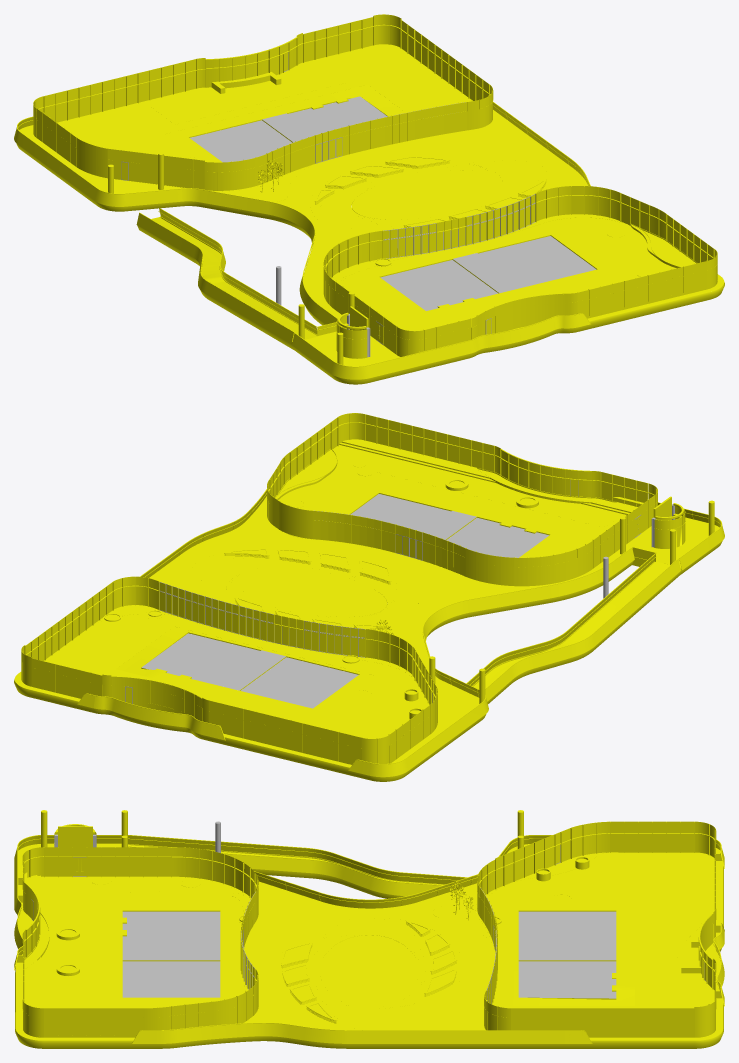
File: sm_hana_building_15f_out.glb
The picture shows the model from 3 angles, top to bottom: view 1: azimuth 30°, elevation 25°; view 2: azimuth 150°, elevation 25°; view 3: azimuth 270°, elevation 25°; orthographic projection. The views are drawn at different scales.
Parts seen in each view (by area): view 1: sm_hana_building_15f_out; view 2: sm_hana_building_15f_out; view 3: sm_hana_building_15f_out.
Part boxes in pixels (left/top/right/bottom): sm_hana_building_15f_out: left=14, top=14, right=724, bottom=384; sm_hana_building_15f_out: left=14, top=413, right=724, bottom=781; sm_hana_building_15f_out: left=14, top=810, right=724, bottom=1048.
Size of the model in its own units: 66.37 by 11.85 by 101.
16 materials, 12 textured.
